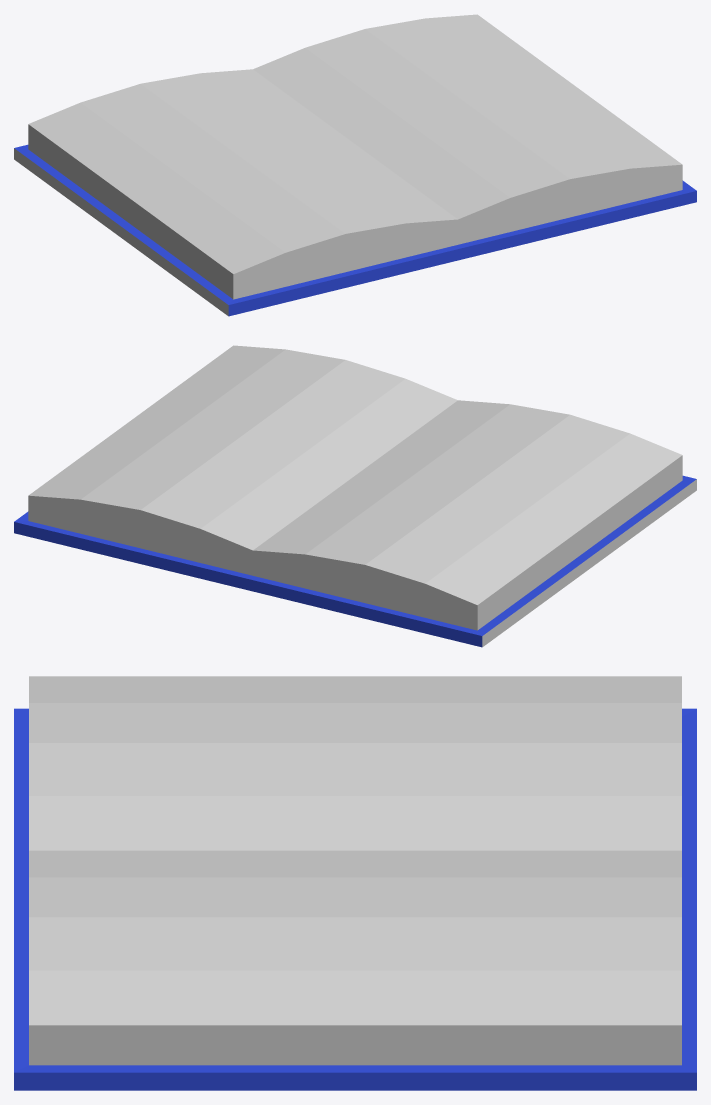
Rendered from BookOpen.fbx.
3 renders of one model, top to bottom at view 1: azimuth 30°, elevation 25°; view 2: azimuth 150°, elevation 25°; view 3: azimuth 270°, elevation 25°, orthographic. The views are drawn at different scales.
Parts seen in each view (by area): view 1: Cube.021; view 2: Cube.021; view 3: Cube.021.
Part boxes in pixels (x1,y1,x2,y2): Cube.021: (14,14,696,316); Cube.021: (14,345,696,647); Cube.021: (14,676,696,1090).
Bounding box in the file's own units: 35.78 × 3.61 × 28.39.
